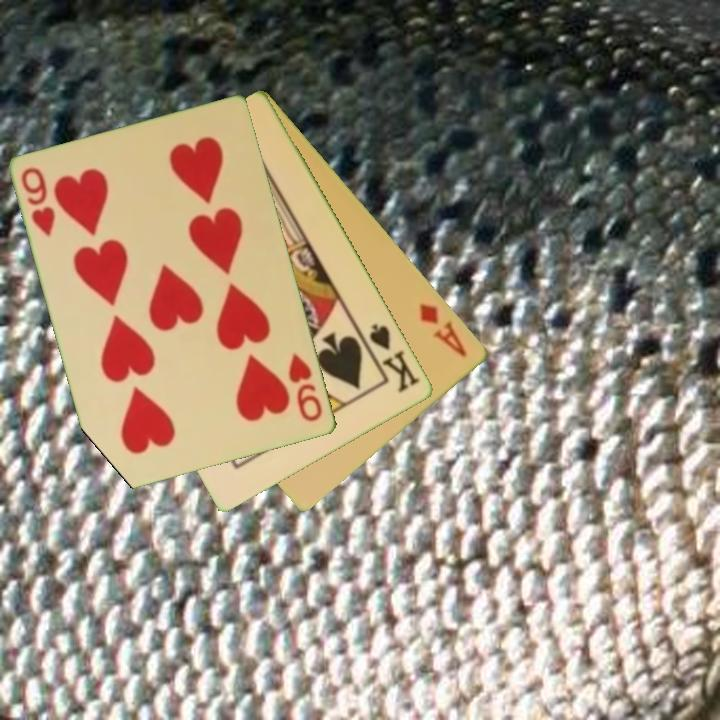9h: (18, 164, 59, 240), (285, 350, 326, 425)
Ad: (416, 299, 471, 360)
Ks: (358, 320, 423, 396)
